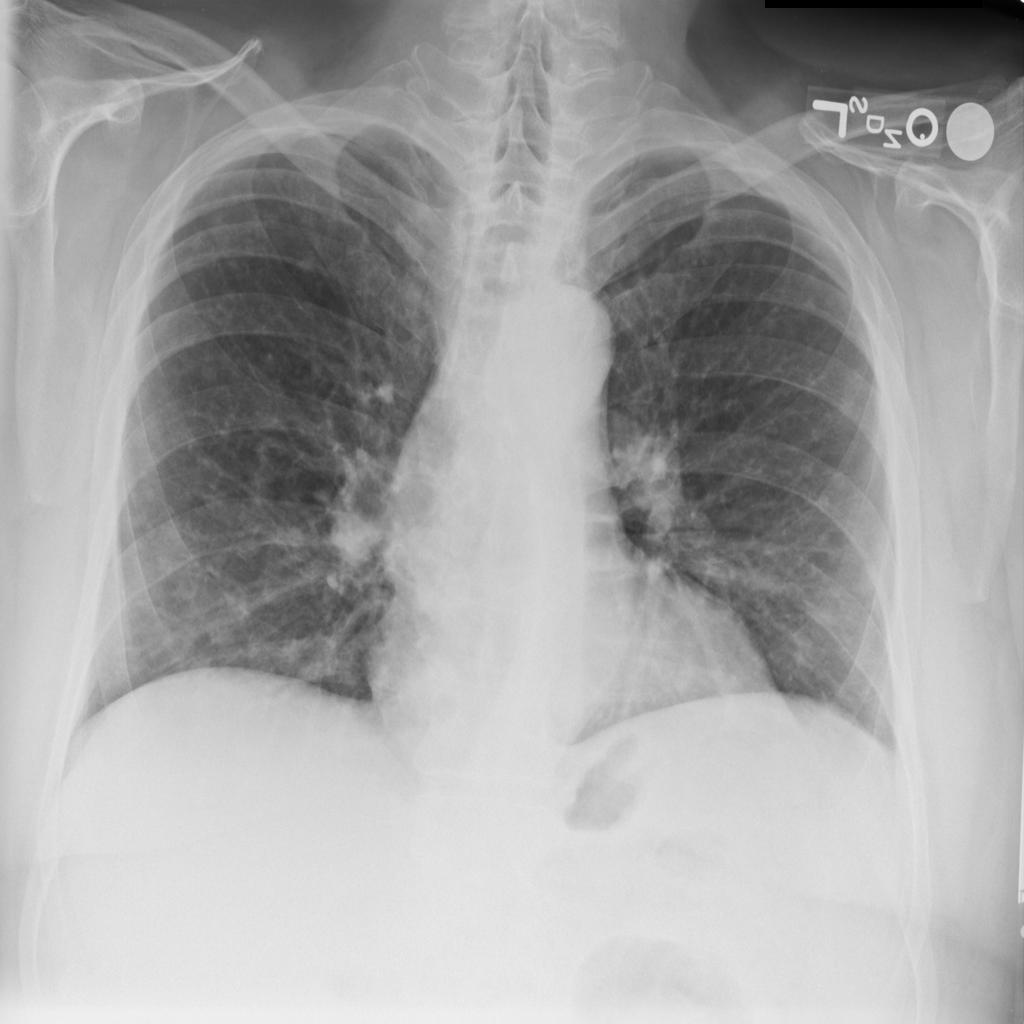nodule: (184, 348, 233, 403)
